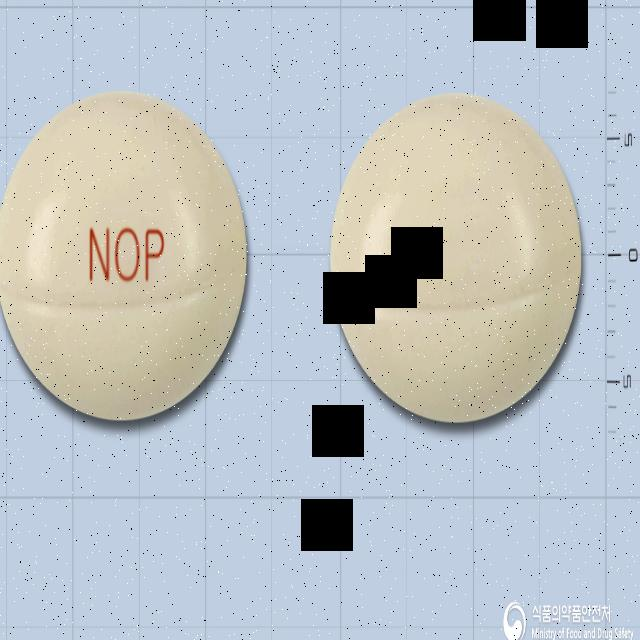Neopol Vaginal Soft Cap: (0, 87, 247, 424)
